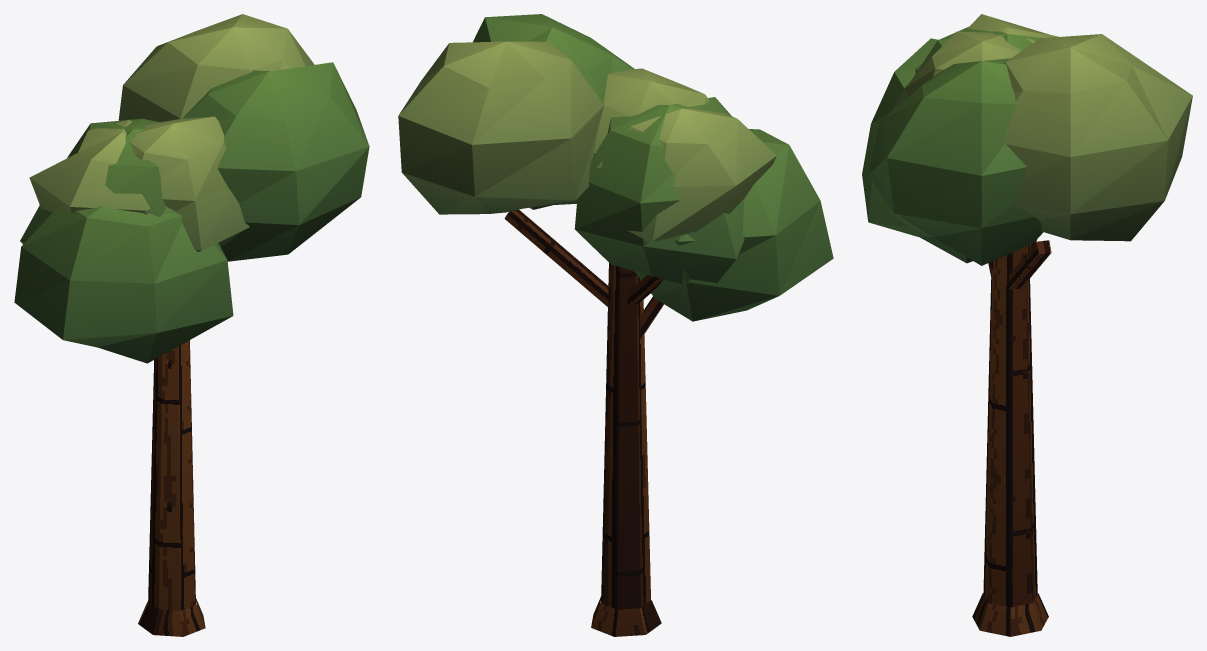
The model's file is birch_3_lowpoly.glb.
The picture shows the model from 3 angles, left to right: view 1: azimuth 30°, elevation 25°; view 2: azimuth 150°, elevation 25°; view 3: azimuth 270°, elevation 25°; orthographic projection. The views are drawn at different scales.
Visible parts, largest first — view 1: birch_3_lowpoly; view 2: birch_3_lowpoly; view 3: birch_3_lowpoly.
Boxes of the visible parts, x1=… form: birch_3_lowpoly: x1=14, y1=14, x2=369, y2=636; birch_3_lowpoly: x1=398, y1=14, x2=833, y2=636; birch_3_lowpoly: x1=862, y1=14, x2=1192, y2=636.
Bounding box in the file's own units: 3.88 × 6.26 × 3.03.
2 materials, 1 textured.
